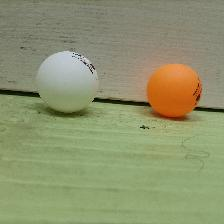WhiteBall: (34, 50, 98, 113)
YellowBall: (146, 63, 203, 117)
